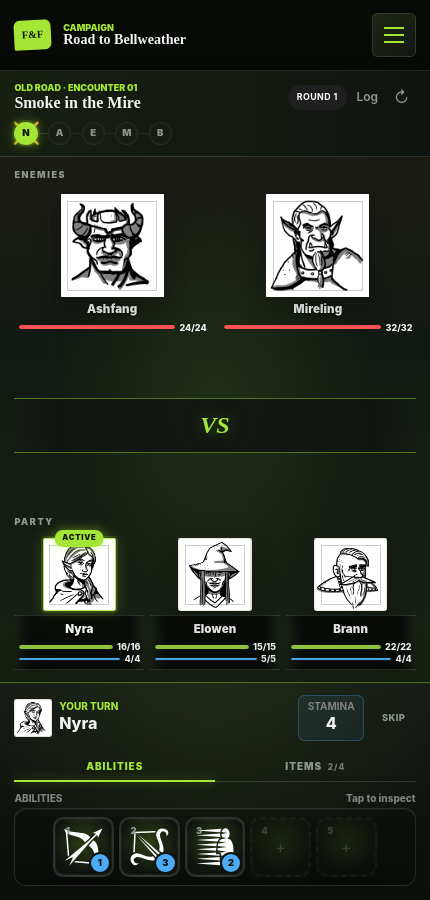
it: <CombatPrototype /> › shows ability details and targets immediately after selection
Click the button with test id "skill-quick-shot" at (84,848), box [53,817,114,878]
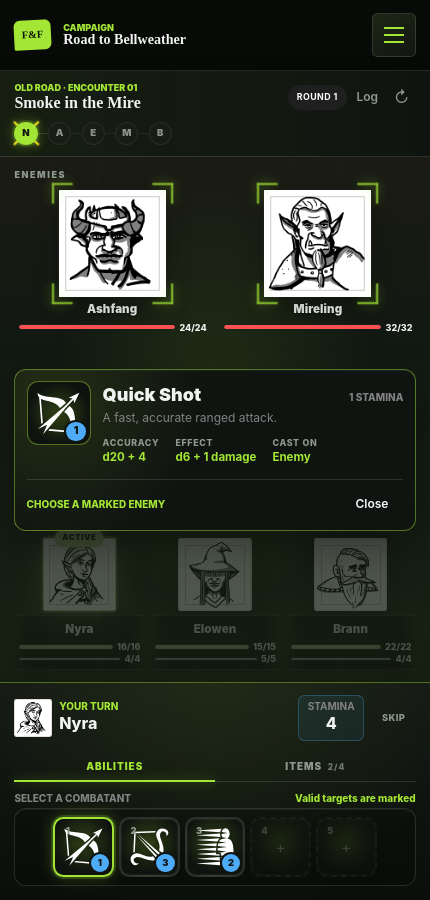
Check: the heading "Quick Shot" is shown, box [103,381,201,410]
Check: the text "Choose a marked enemy" is shown, box [27,498,165,510]
Check: the text "Enemy" is shown, box [272,449,317,467]
